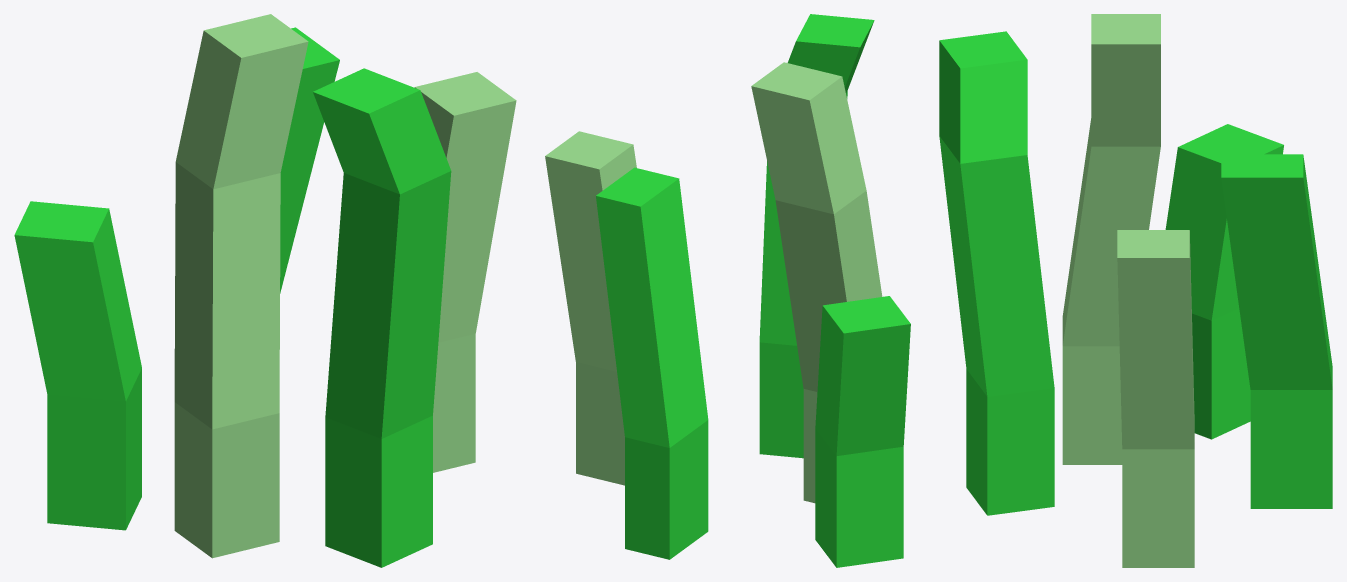
File: grass.fbx
The picture shows the model from 3 angles, left to right: view 1: azimuth 30°, elevation 25°; view 2: azimuth 150°, elevation 25°; view 3: azimuth 270°, elevation 25°; orthographic projection. The views are drawn at different scales.
Parts seen in each view (by area): view 1: Cube.001, Grass.001, Grass, Grass.003, Grass.002; view 2: Grass.002, Cube.001, Grass, Grass.003, Grass.001; view 3: Grass.001, Grass.002, Cube.001, Grass.003, Grass.
Part boxes in pixels (<box>): Cube.001: <box>174,14,308,558</box>; Grass.001: <box>313,68,451,567</box>; Grass: <box>14,201,141,530</box>; Grass.003: <box>414,72,516,472</box>; Grass.002: <box>280,27,339,293</box>; Grass.002: <box>596,167,708,559</box>; Cube.001: <box>751,62,882,503</box>; Grass: <box>815,296,910,567</box>; Grass.003: <box>545,131,636,485</box>; Grass.001: <box>759,14,874,458</box>; Grass.001: <box>939,31,1054,515</box>; Grass.002: <box>1221,154,1332,508</box>; Cube.001: <box>1062,14,1160,464</box>; Grass.003: <box>1117,230,1194,567</box>; Grass: <box>1165,124,1283,439</box>.
Bounding box in the file's own units: 144 × 148 × 120.
